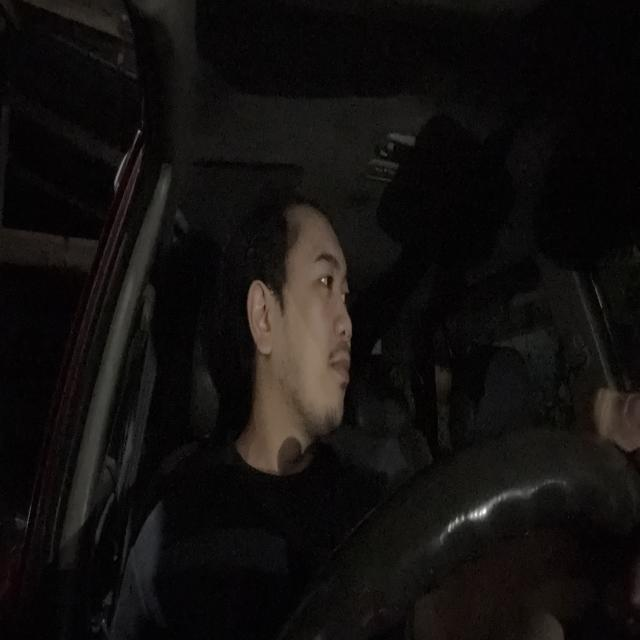open: (308, 250, 339, 300)
